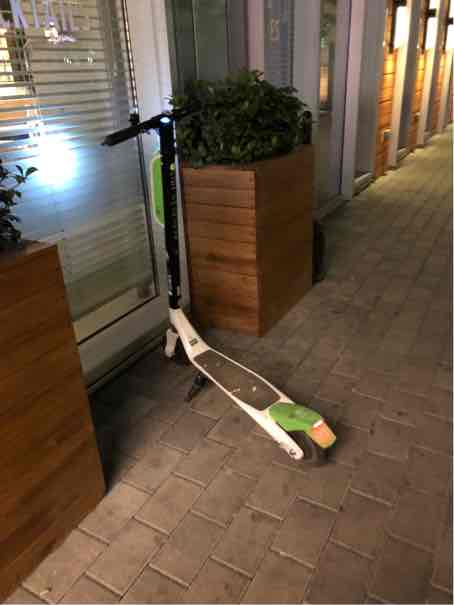scooter: (86, 88, 351, 467)
